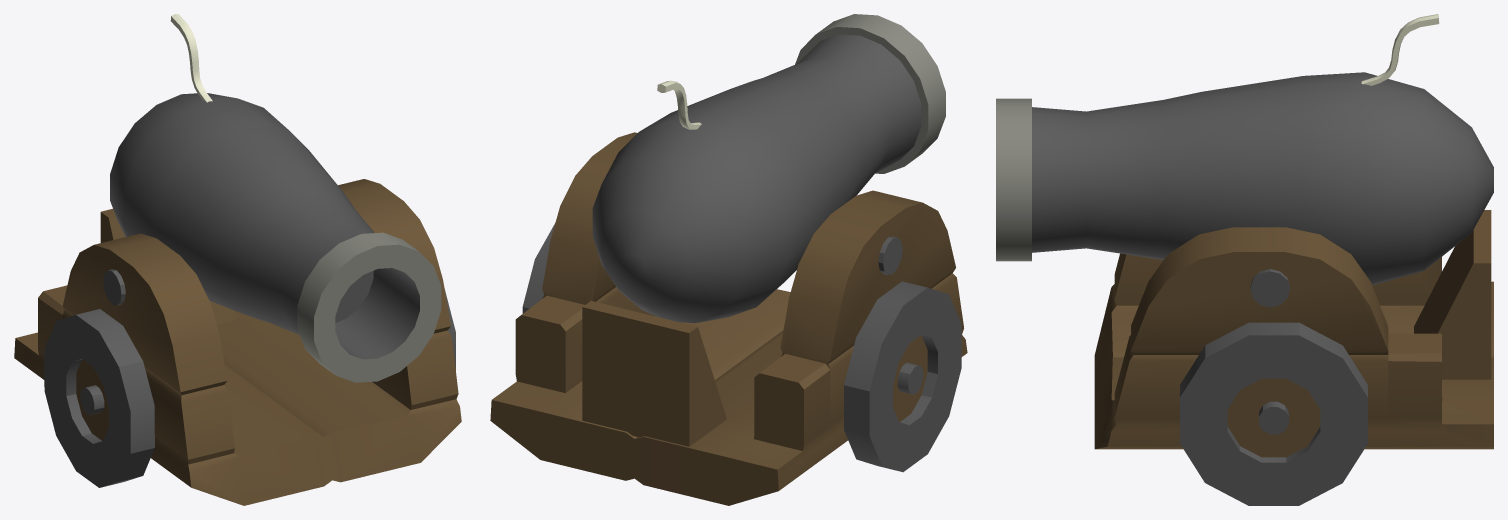
3 views of the same model, side by side, from view 1: azimuth 30°, elevation 25°; view 2: azimuth 150°, elevation 25°; view 3: azimuth 270°, elevation 25° (orthographic). The views are drawn at different scales.
Visible parts, largest first — view 1: Cannon; view 2: Cannon; view 3: Cannon.
Part boxes in pixels (<box>): Cannon: <box>14,14,461,505</box>; Cannon: <box>490,14,967,505</box>; Cannon: <box>996,14,1493,505</box>.
Bounding box in the file's own units: 2.81 × 3.05 × 3.4.
1 material, 1 textured.
